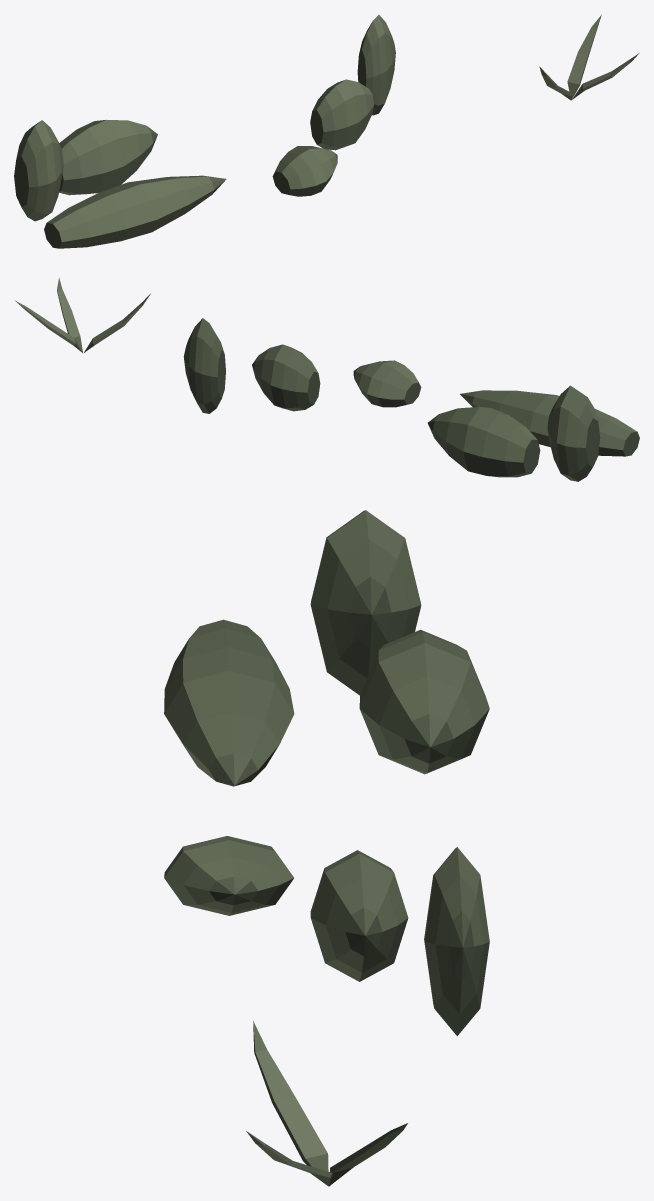
The model's file is n02_shrub_and_grass_set.glb.
3 views of the same model, one above another, from view 1: azimuth 30°, elevation 25°; view 2: azimuth 150°, elevation 25°; view 3: azimuth 270°, elevation 25° (orthographic). The views are drawn at different scales.
Parts seen in each view (by area): view 1: N02_A_LowWindward, N02_A_MidRear, N02_A_HighShort, N02_B_RisingMiddle, N02_B_LowStart, N02_B_HighTip, N02_Grass_Blade_East, N02_Grass_Blade_South; view 2: N02_A_MidRear, N02_A_LowWindward, N02_A_HighShort, N02_B_RisingMiddle, N02_B_HighTip, N02_B_LowStart, N02_Grass_Blade_South, N02_Grass_Blade_West, N02_Grass_Blade_East; view 3: N02_A_LowWindward, N02_A_MidRear, N02_A_HighShort, N02_B_RisingMiddle, N02_B_HighTip, N02_B_LowStart, N02_Grass_Blade_West, N02_Grass_Blade_East.
Boxes of the visible parts, bbox=[...] form: N02_A_LowWindward: bbox=[44, 175, 226, 248]; N02_A_MidRear: bbox=[59, 119, 157, 195]; N02_A_HighShort: bbox=[14, 120, 63, 221]; N02_B_RisingMiddle: bbox=[310, 79, 375, 150]; N02_B_LowStart: bbox=[272, 146, 337, 196]; N02_B_HighTip: bbox=[357, 15, 395, 115]; N02_Grass_Blade_East: bbox=[567, 14, 601, 99]; N02_Grass_Blade_South: bbox=[572, 53, 639, 99]; N02_A_MidRear: bbox=[427, 407, 540, 477]; N02_A_LowWindward: bbox=[460, 390, 639, 456]; N02_A_HighShort: bbox=[547, 385, 600, 481]; N02_B_RisingMiddle: bbox=[252, 344, 320, 411]; N02_B_HighTip: bbox=[183, 318, 225, 413]; N02_B_LowStart: bbox=[353, 360, 421, 407]; N02_Grass_Blade_South: bbox=[57, 277, 82, 352]; N02_Grass_Blade_West: bbox=[84, 293, 150, 352]; N02_Grass_Blade_East: bbox=[15, 300, 82, 352]; N02_A_LowWindward: bbox=[164, 619, 294, 786]; N02_A_MidRear: bbox=[359, 629, 489, 774]; N02_A_HighShort: bbox=[310, 510, 421, 695]; N02_B_RisingMiddle: bbox=[310, 850, 408, 981]; N02_B_HighTip: bbox=[424, 847, 489, 1036]; N02_B_LowStart: bbox=[164, 836, 293, 915]; N02_Grass_Blade_West: bbox=[253, 1021, 328, 1171]; N02_Grass_Blade_East: bbox=[329, 1123, 407, 1186].
Bounding box in the file's own units: 4.05 × 0.65 × 1.
